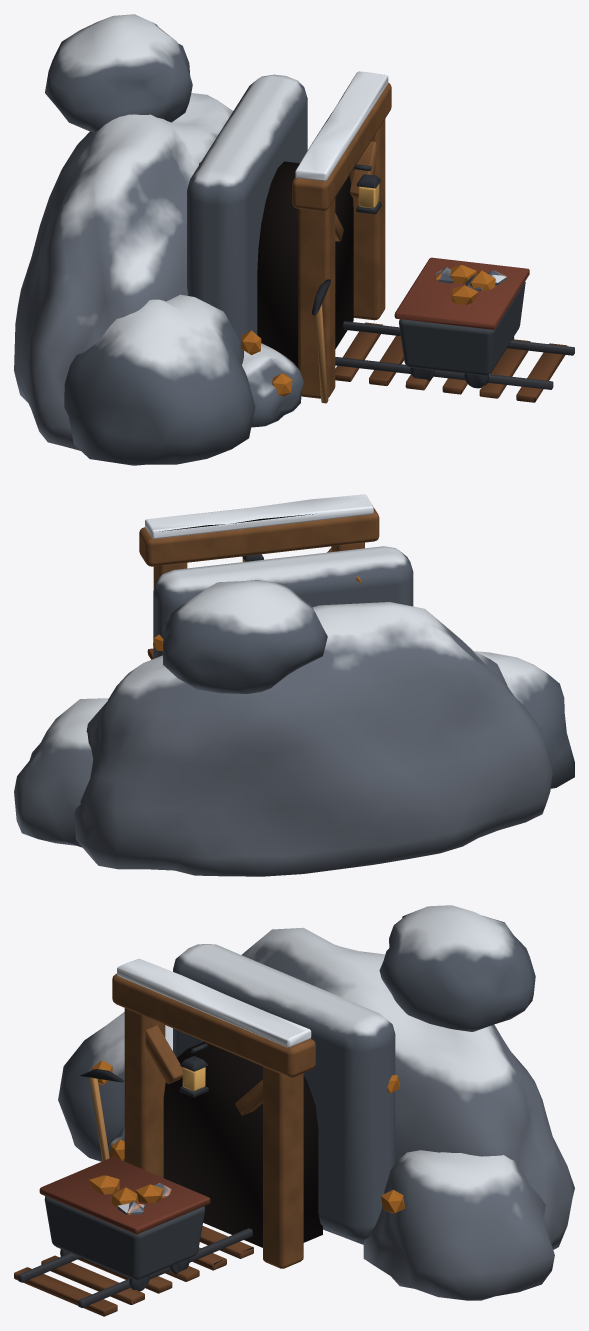
Rendered from mine_entrance.glb.
3 renders of one model, top to bottom at view 1: azimuth 30°, elevation 25°; view 2: azimuth 150°, elevation 25°; view 3: azimuth 270°, elevation 25°, orthographic. The views are drawn at different scales.
Visible parts, largest first — view 1: brace; view 2: brace; view 3: brace.
Part boxes in pixels (x1=…): brace: x1=14, y1=14, x2=574, y2=465; brace: x1=14, y1=494, x2=574, y2=876; brace: x1=14, y1=905, x2=574, y2=1316.
Size of the model in its own units: 4.32 by 2.55 by 4.36.
Materials: 1 (1 with a texture image).
